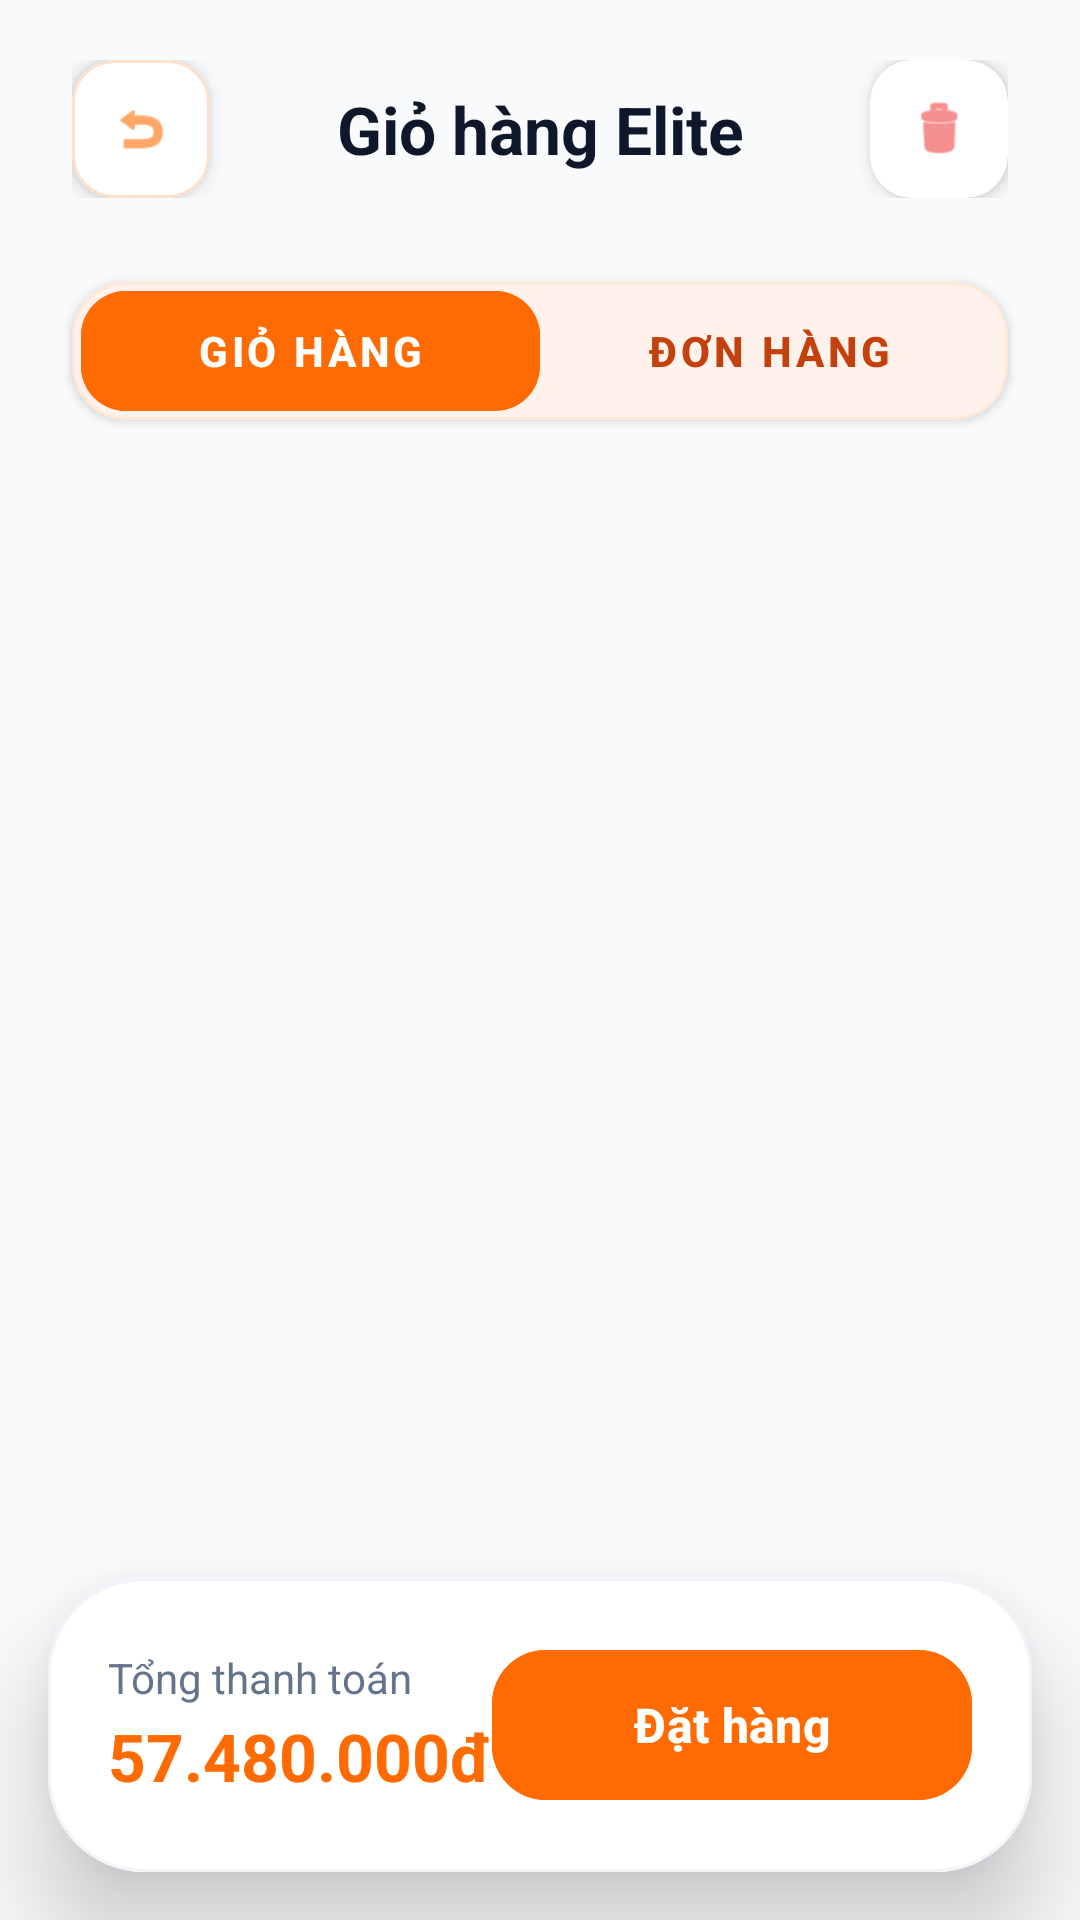

Screen size 1080 × 1920. Icon name, then its center in pixels as [x,y]:
delete: [949,129]
revert: [141,129]
